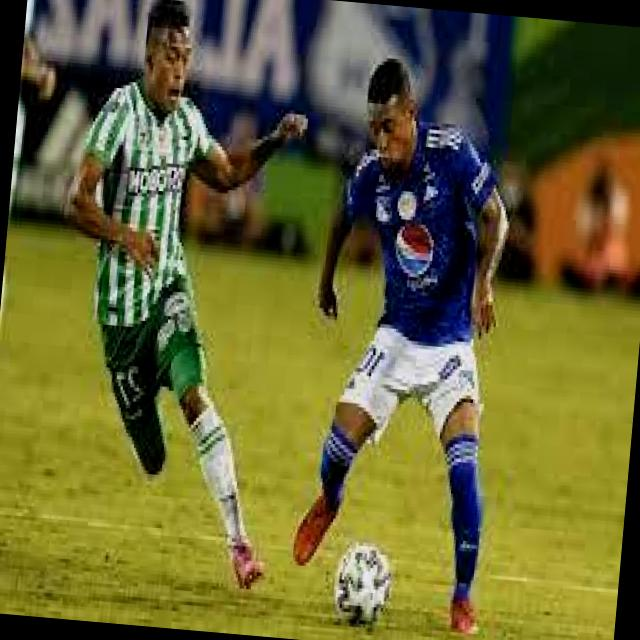Soccer Ball: (333, 544, 388, 626)
